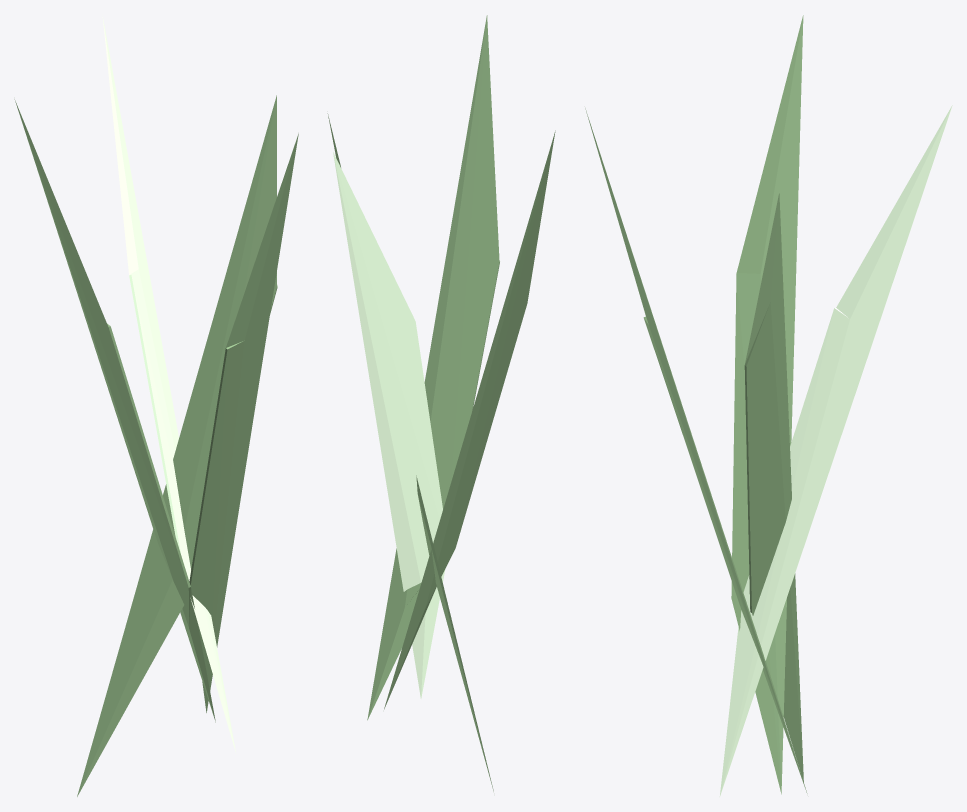
File: gras.glb
The picture shows the model from 3 angles, left to right: view 1: azimuth 30°, elevation 25°; view 2: azimuth 150°, elevation 25°; view 3: azimuth 270°, elevation 25°; orthographic projection. The views are drawn at different scales.
Visible parts, largest first — view 1: plane_copy, plane_copy_copy, plane_copy_1, plane; view 2: plane_copy_copy, plane_copy_1, plane, plane_copy; view 3: plane_copy_1, plane, plane_copy, plane_copy_copy.
Part boxes in pixels (x1,y1,x2,y2): plane_copy: (77, 95, 277, 796); plane_copy_copy: (189, 133, 298, 712); plane_copy_1: (102, 16, 236, 753); plane: (14, 99, 215, 722); plane_copy_copy: (367, 15, 499, 720); plane_copy_1: (333, 152, 445, 698); plane: (384, 130, 555, 709); plane_copy: (327, 113, 493, 791); plane_copy_1: (719, 105, 952, 796); plane: (731, 15, 803, 794); plane_copy: (744, 193, 803, 781); plane_copy_copy: (585, 108, 807, 793).
Bounding box in the file's own units: 1.14 × 3.11 × 1.41.
